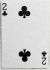two: (1, 1, 49, 68)
